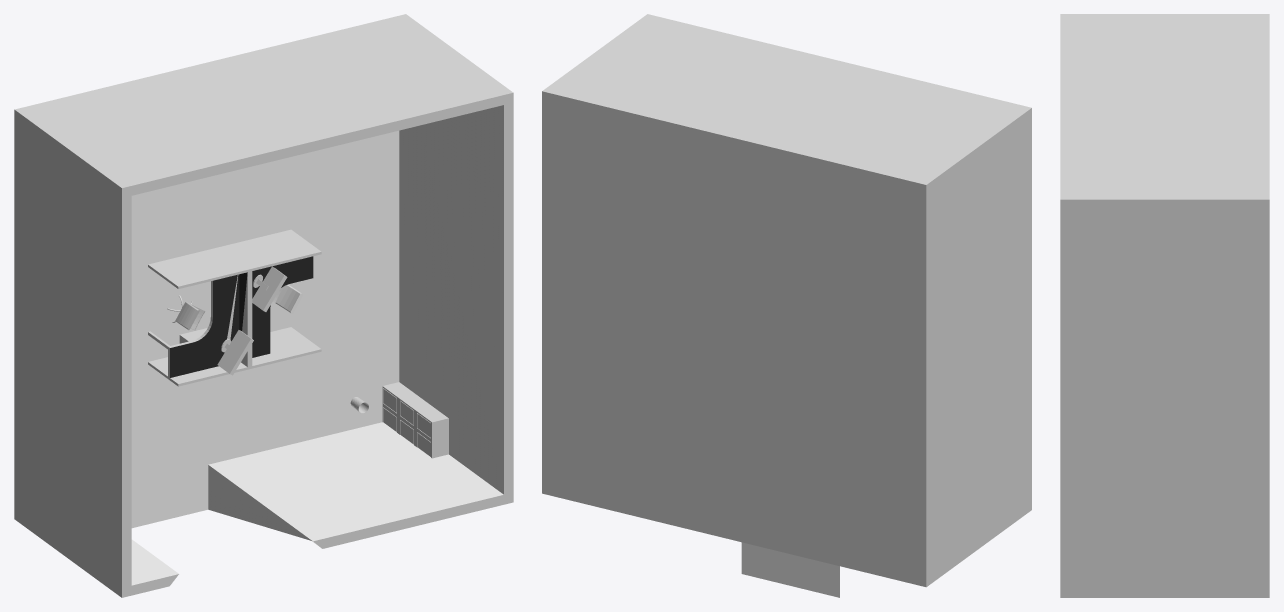
The model's file is indoor.obj.
3 views of the same model, side by side, from view 1: azimuth 30°, elevation 25°; view 2: azimuth 150°, elevation 25°; view 3: azimuth 270°, elevation 25° (orthographic). The views are drawn at different scales.
Visible parts, largest first — view 1: indoor.part; view 2: indoor.part; view 3: indoor.part.
Part boxes in pixels (<box>): indoor.part: <box>14,14,513,597</box>; indoor.part: <box>542,14,1031,597</box>; indoor.part: <box>1060,14,1269,597</box>.
Bounding box in the file's own units: 8.2 × 8.9 × 3.9.
1 material, 1 textured.
